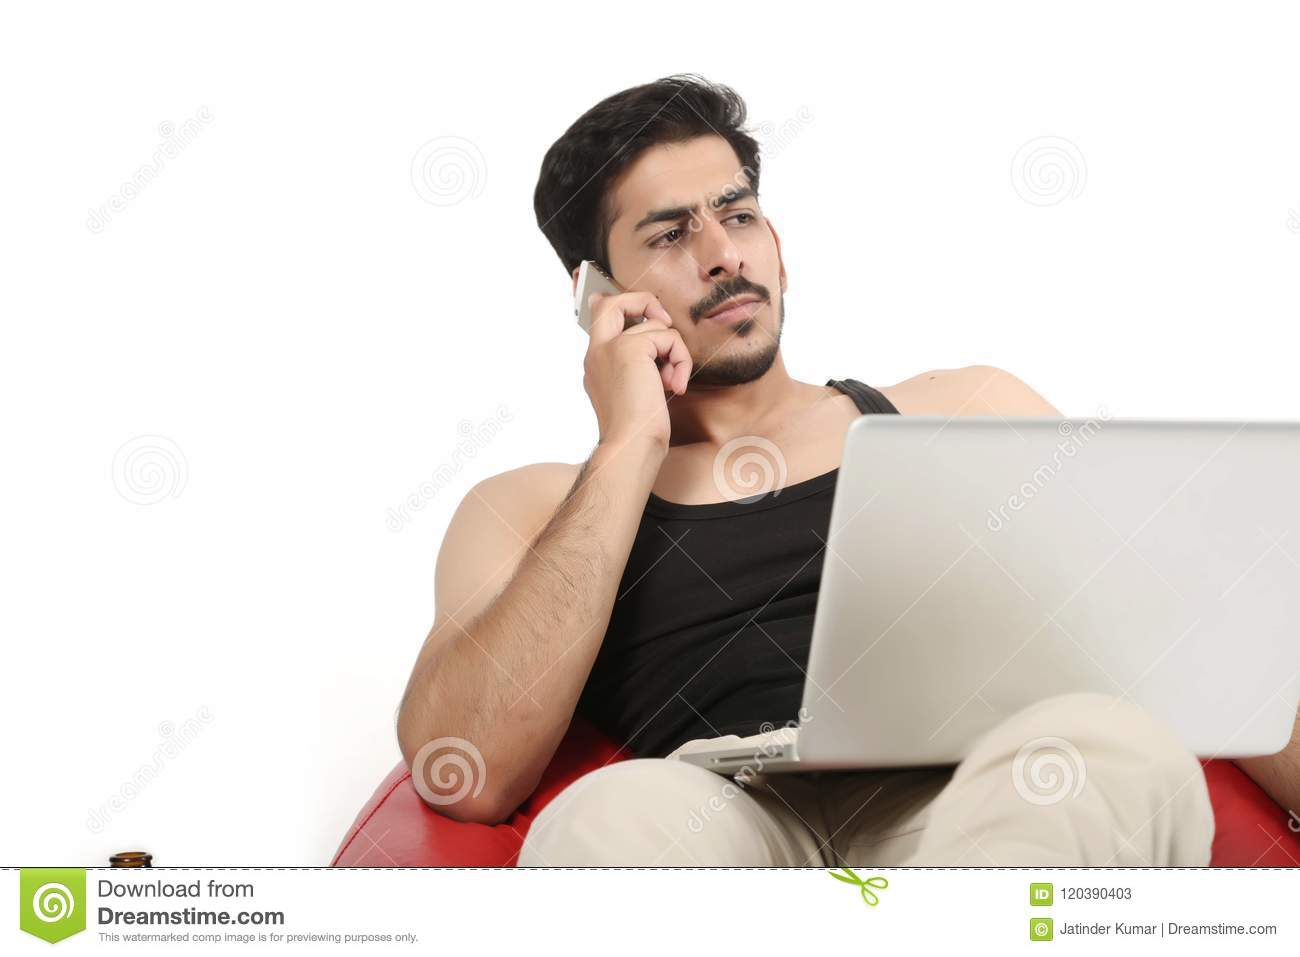phone: (572, 257, 690, 388)
talk: (569, 173, 782, 452)
